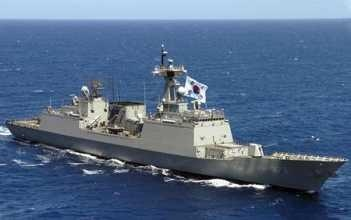warship: (4, 61, 349, 190)
